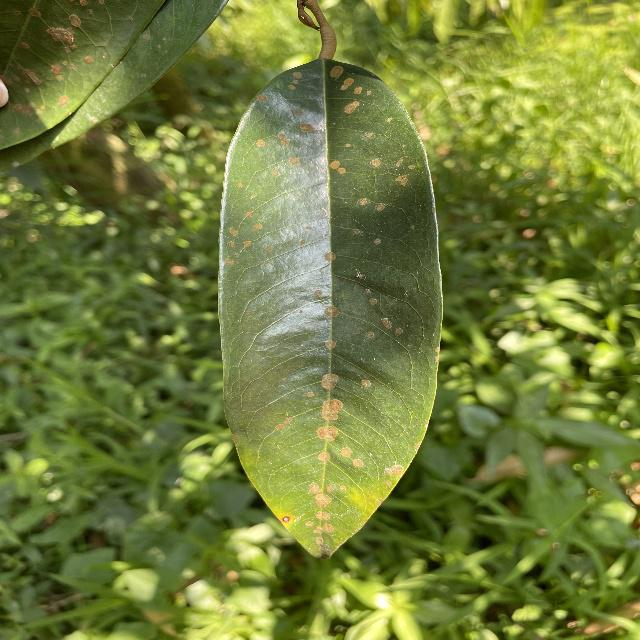Algal Leaf Spot: (210, 49, 451, 564)
